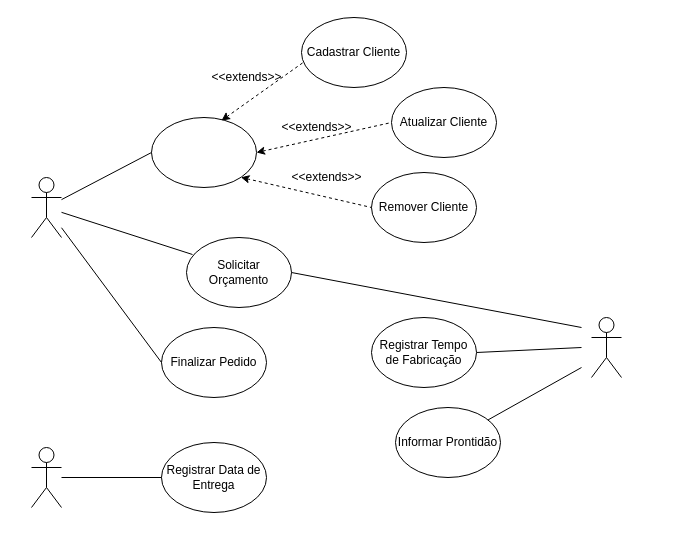
This 675x546 diagram has some shape labels left out. The shapes that lost their labels are listed below. From the top down, each one's centre as x and y in pixels, then its label:
At (203,152): "Listar clientes".
At (46,207): "Atendente".
At (606,347): "Chefe de Produção".
At (46,477): "Entregador".
